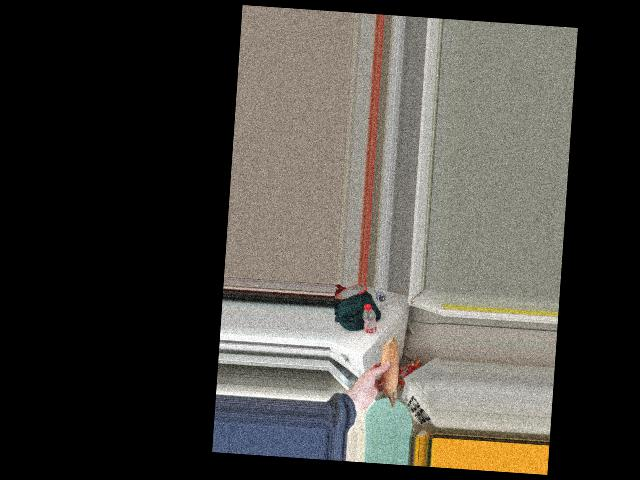sweet_potato: (375, 341, 401, 403)
